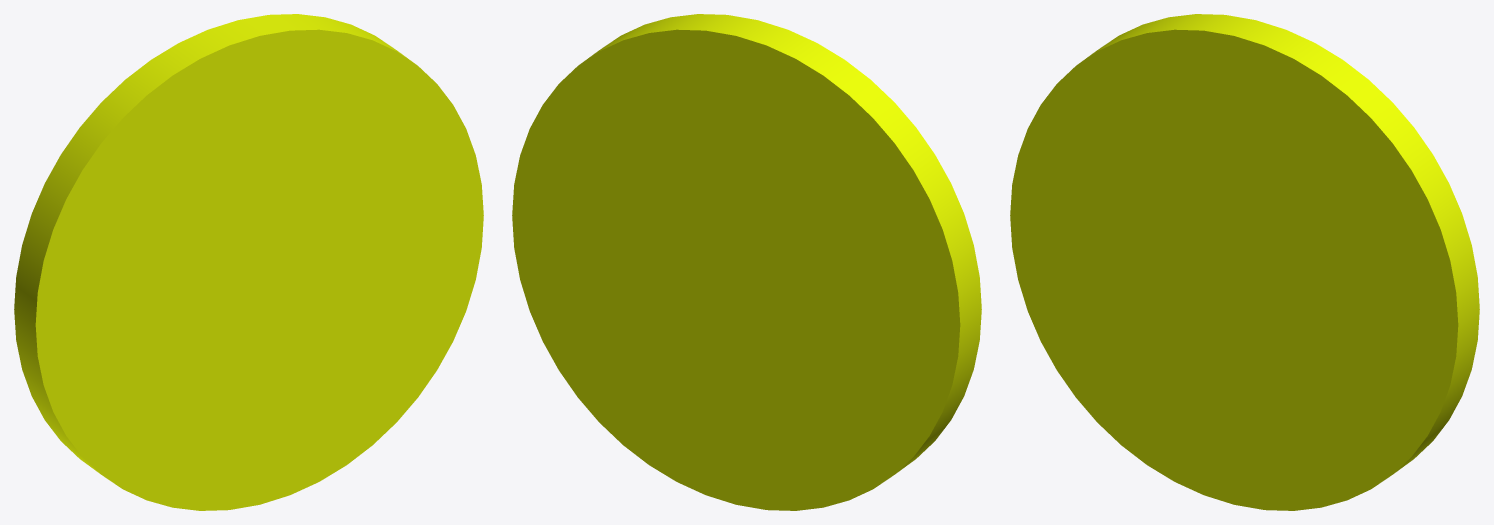
Rendered from Aylana.fbx.
3 views of the same model, side by side, from view 1: azimuth 30°, elevation 25°; view 2: azimuth 150°, elevation 25°; view 3: azimuth 330°, elevation 25° (orthographic).
Visible parts, largest first — view 1: Curve; view 2: Curve; view 3: Curve.
Boxes of the visible parts, box(x1,y1,x2,y2) form: Curve: box(14, 14, 483, 510); Curve: box(512, 14, 981, 510); Curve: box(1010, 14, 1479, 510).
Bounding box in the file's own units: 4.63 × 4.63 × 0.3854.
1 material, 1 textured.
